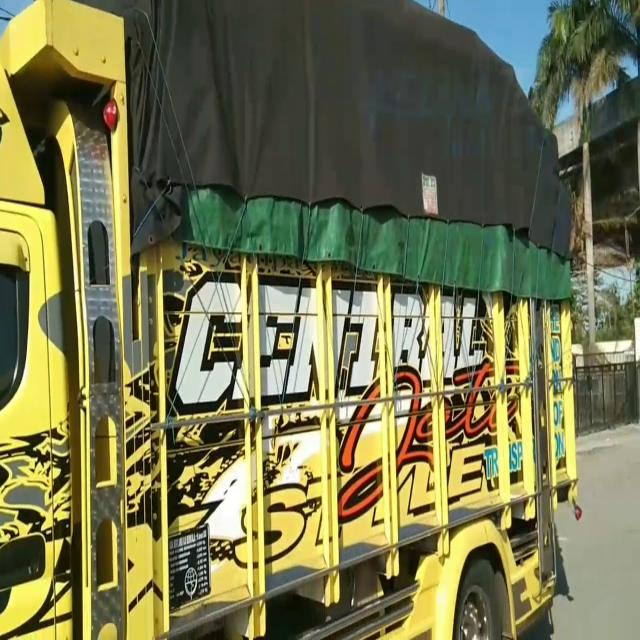truck: (0, 0, 582, 635)
